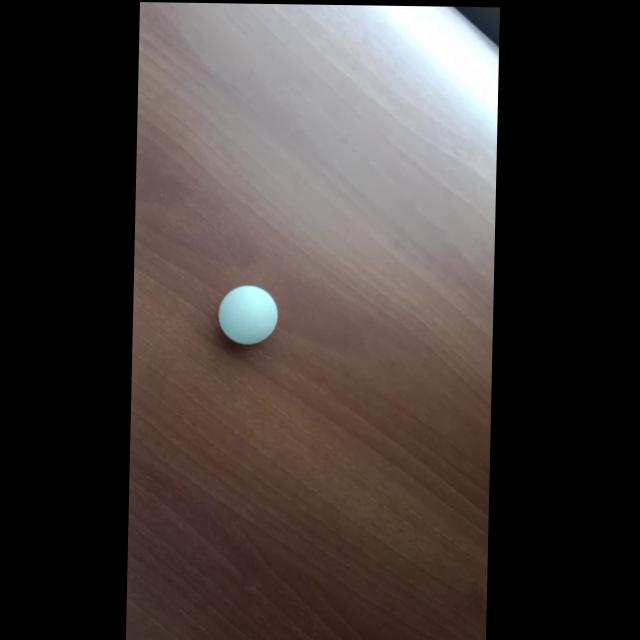white ball: (217, 284, 279, 346)
